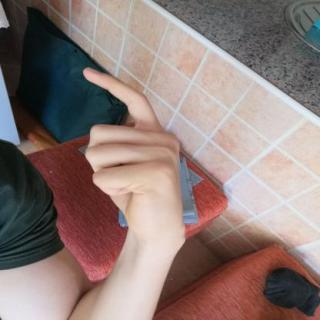RAA: (74, 58, 191, 242)
